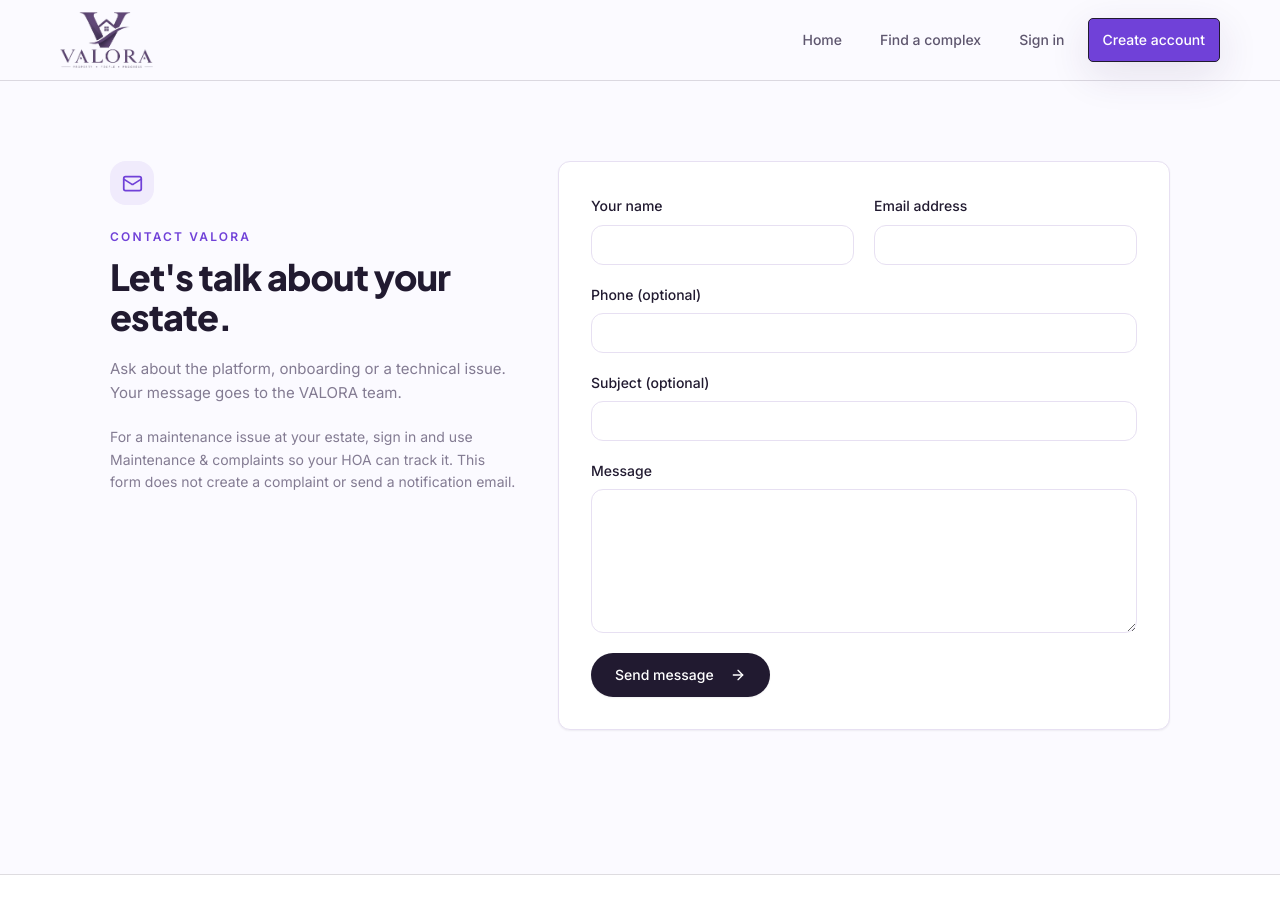
combined Vantage workspace › sends the legacy contact journey through the current API and waits for success
Type "  Resident Name  " into the field labelled "Your name" at x=722, y=245, box [591, 225, 854, 265]
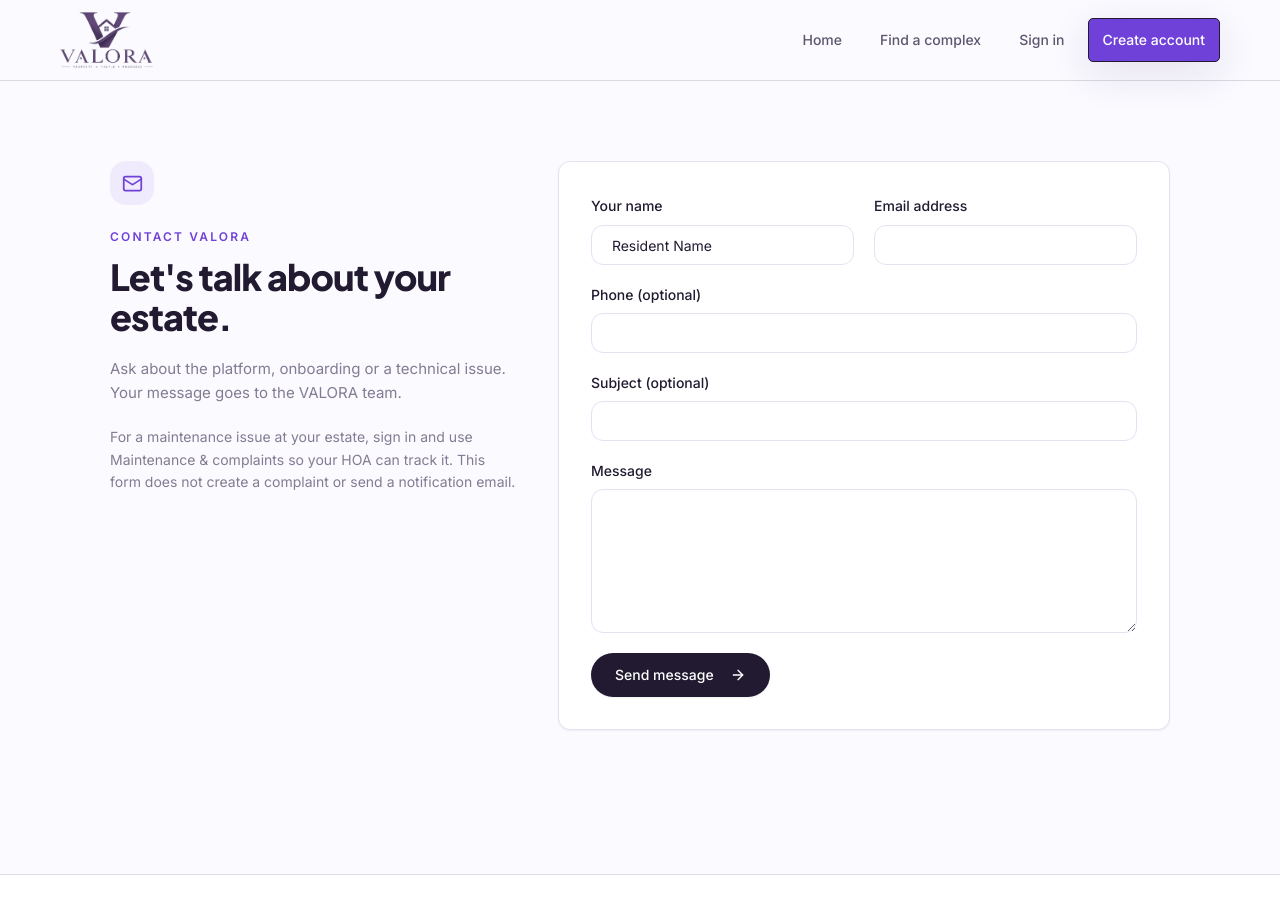
Type "resident@example.com" into the field labelled "Email address" at x=1006, y=245, box [874, 225, 1137, 265]
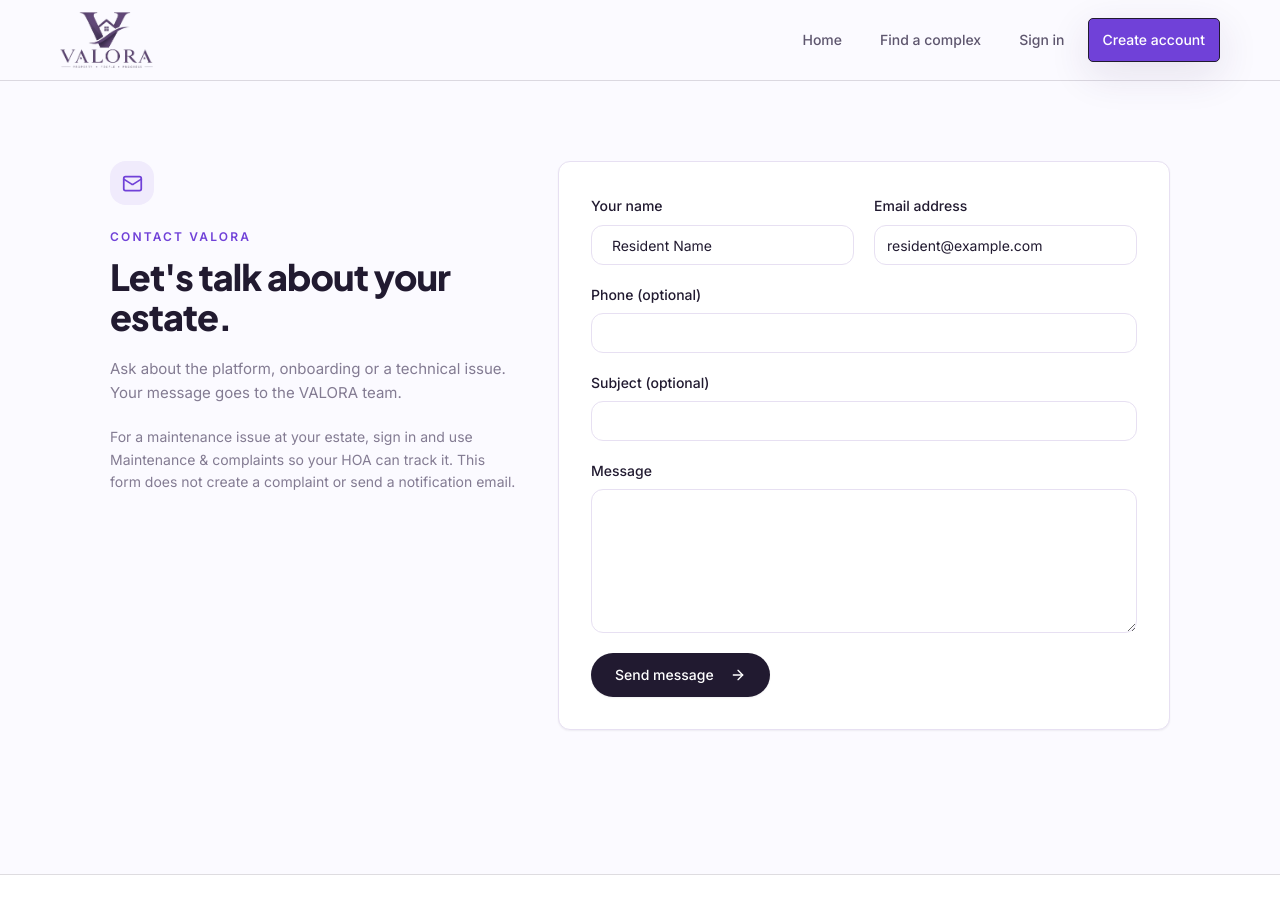
Type "Please contact me about joining the estate." into the text box labelled "Message" at x=864, y=561, box [591, 489, 1137, 633]
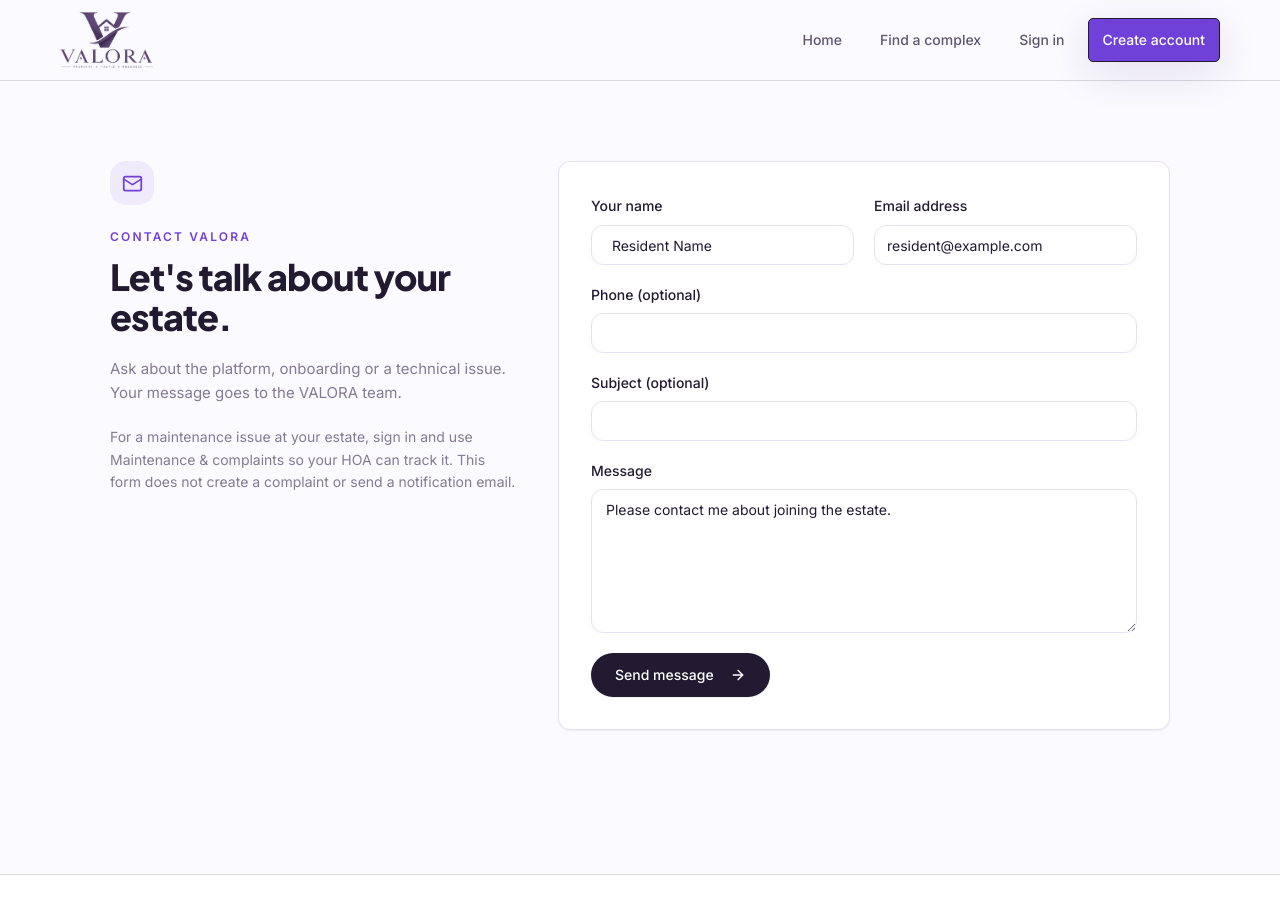
Click the button "Send message" at x=680, y=675, box [591, 653, 770, 697]
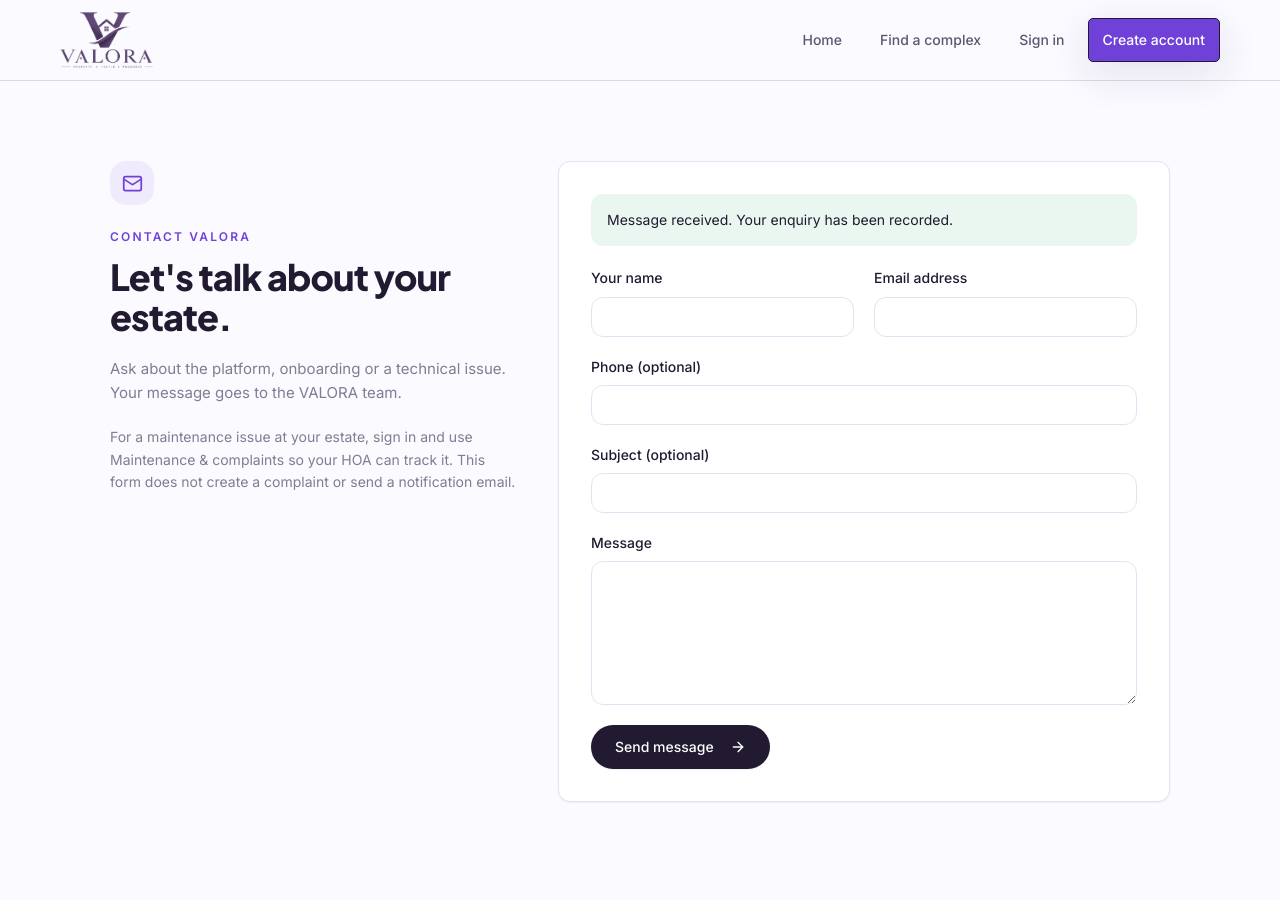
Result: the message shows "Message received" at [607, 211, 953, 228]
